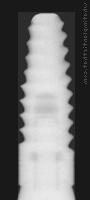BioHorizons: (16, 12, 75, 200)
